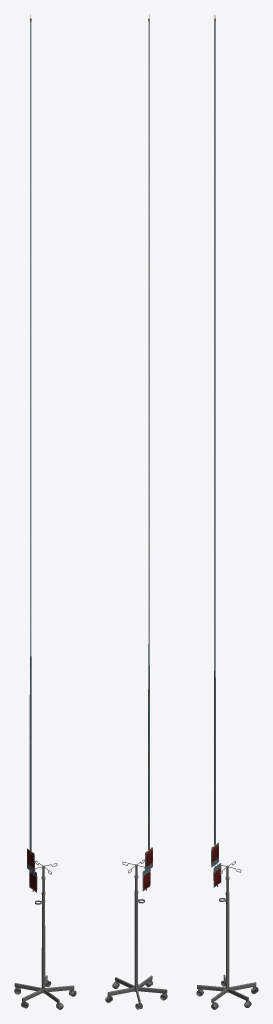
Rendered from perfusion.fbx.
The picture shows the model from 3 angles, left to right: view 1: azimuth 30°, elevation 25°; view 2: azimuth 150°, elevation 25°; view 3: azimuth 330°, elevation 25°; orthographic projection.
Parts seen in each view (by area): view 1: poche_cable, pied; view 2: poche_cable, pied; view 3: poche_cable, pied.
Part boxes in pixels (box(x1,y1,x2,y2)): poche_cable: box(27, 14, 34, 873); pied: box(14, 860, 76, 1009); poche_cable: box(145, 14, 152, 872); pied: box(105, 859, 167, 1009); poche_cable: box(211, 14, 218, 867); pied: box(196, 861, 258, 1009).
Size of the model in its own units: 0.6353 by 11.07 by 0.5965.
2 materials, 1 textured.
